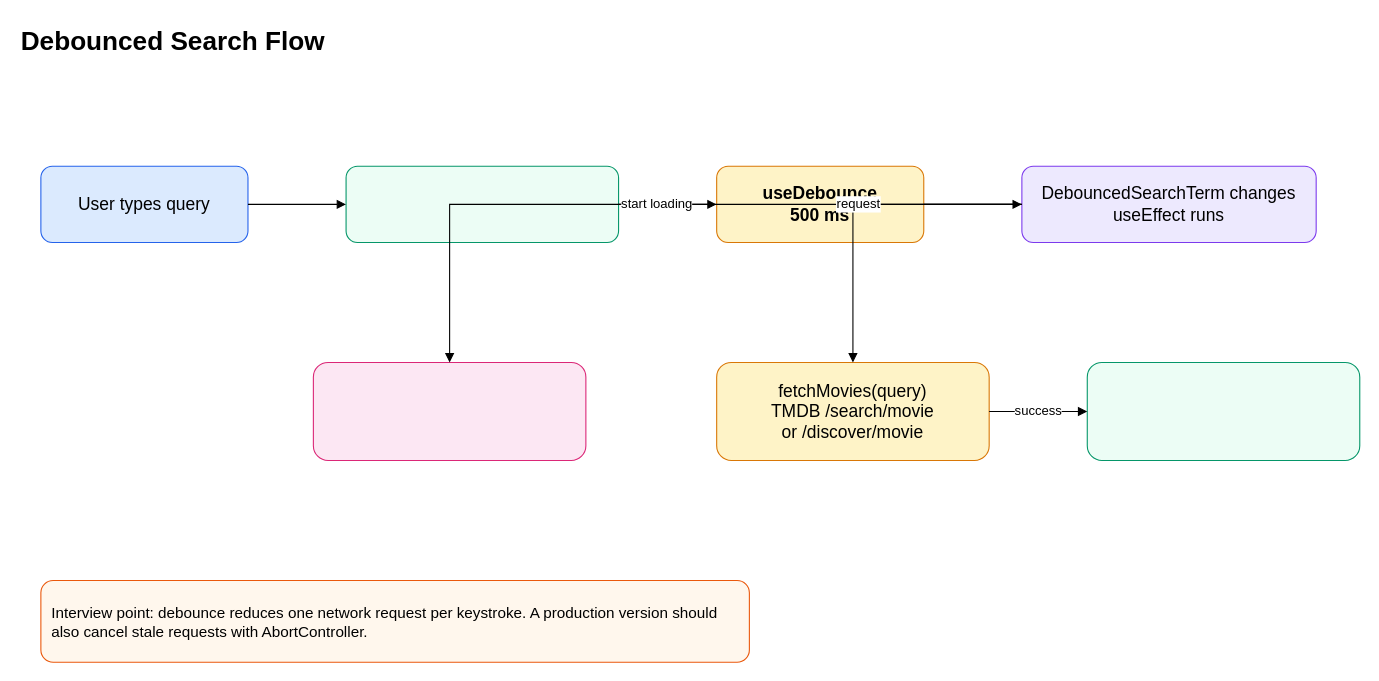
This 1379x681 diagram has some shape labels left out. Each missing label, with the centre of its shape:
"isloading = true Spinner error state on failure" goes at (x=449, y=411).
"Search.jsx onChange → setSearchTerm" goes at (x=482, y=204).
"setMovieList(results) render MovieCard grid" goes at (x=1223, y=411).
